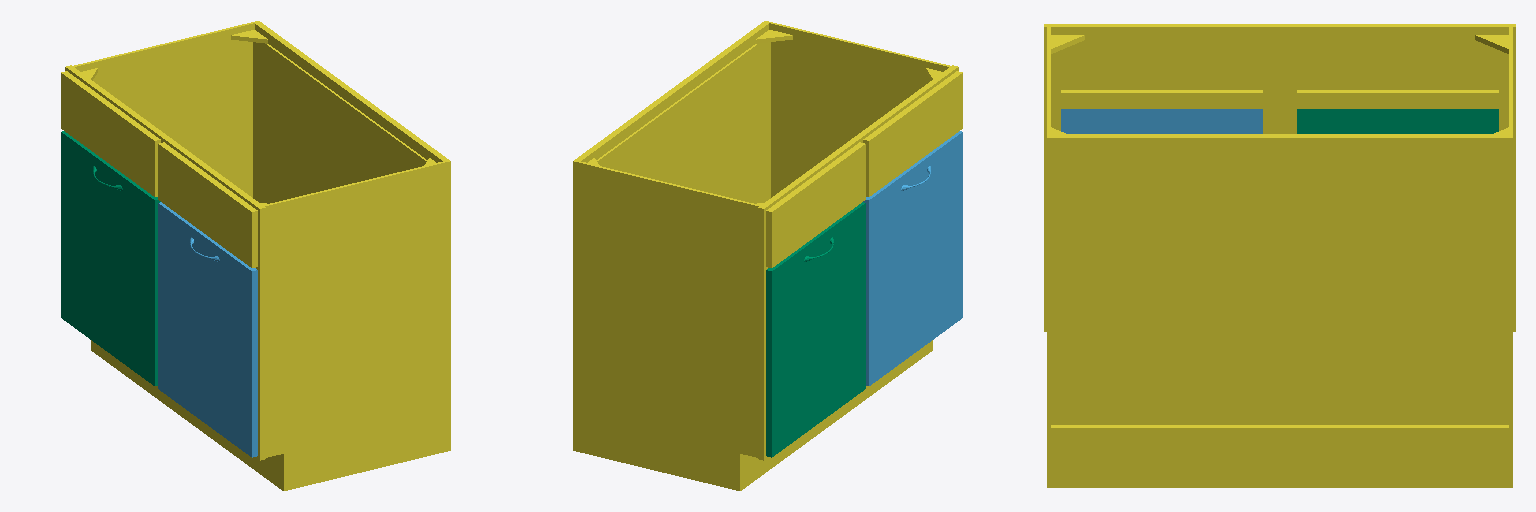
The robot description file, URDF, robot "partnet_147e9d3591cb190829a50a2b3c5e5b6":
<?xml version="1.0" ?>
<robot name="partnet_147e9d3591cb190829a50a2b3c5e5b6">
	<link name="base"/>
	<link name="link_0">
		<visual name="cabinet_door_surface-14">
			<origin xyz="-0.6890134775672921 0.35905998945236206 -0.39410391321777877"/>
			<geometry>
				<mesh filename="textured_objs/original-35.obj"/>
			</geometry>
		</visual>
		<visual name="handle-15">
			<origin xyz="-0.6890134775672921 0.35905998945236206 -0.39410391321777877"/>
			<geometry>
				<mesh filename="textured_objs/original-39.obj"/>
			</geometry>
		</visual>
		<visual name="handle-15">
			<origin xyz="-0.6890134775672921 0.35905998945236206 -0.39410391321777877"/>
			<geometry>
				<mesh filename="textured_objs/original-38.obj"/>
			</geometry>
		</visual>
		<visual name="handle-15">
			<origin xyz="-0.6890134775672921 0.35905998945236206 -0.39410391321777877"/>
			<geometry>
				<mesh filename="textured_objs/original-37.obj"/>
			</geometry>
		</visual>
		<collision>
			<origin xyz="-0.6890134775672921 0.35905998945236206 -0.39410391321777877"/>
			<geometry>
				<mesh filename="textured_objs/original-35.obj"/>
			</geometry>
		</collision>
		<collision>
			<origin xyz="-0.6890134775672921 0.35905998945236206 -0.39410391321777877"/>
			<geometry>
				<mesh filename="textured_objs/original-39.obj"/>
			</geometry>
		</collision>
		<collision>
			<origin xyz="-0.6890134775672921 0.35905998945236206 -0.39410391321777877"/>
			<geometry>
				<mesh filename="textured_objs/original-38.obj"/>
			</geometry>
		</collision>
		<collision>
			<origin xyz="-0.6890134775672921 0.35905998945236206 -0.39410391321777877"/>
			<geometry>
				<mesh filename="textured_objs/original-37.obj"/>
			</geometry>
		</collision>
	</link>
	<joint name="joint_0" type="revolute">
		<origin xyz="0.6890134775672921 -0.35905998945236206 0.39410391321777877"/>
		<axis xyz="0 1 0"/>
		<child link="link_0"/>
		<parent link="link_2"/>
		<limit lower="-0.0" upper="1.5707963267948966"/>
	</joint>
	<link name="link_1">
		<visual name="cabinet_door_surface-12">
			<origin xyz="0.6610118531060256 0.35905998945236206 -0.3949500614873043"/>
			<geometry>
				<mesh filename="textured_objs/original-29.obj"/>
			</geometry>
		</visual>
		<visual name="handle-13">
			<origin xyz="0.6610118531060256 0.35905998945236206 -0.3949500614873043"/>
			<geometry>
				<mesh filename="textured_objs/original-33.obj"/>
			</geometry>
		</visual>
		<visual name="handle-13">
			<origin xyz="0.6610118531060256 0.35905998945236206 -0.3949500614873043"/>
			<geometry>
				<mesh filename="textured_objs/original-31.obj"/>
			</geometry>
		</visual>
		<visual name="handle-13">
			<origin xyz="0.6610118531060256 0.35905998945236206 -0.3949500614873043"/>
			<geometry>
				<mesh filename="textured_objs/original-32.obj"/>
			</geometry>
		</visual>
		<collision>
			<origin xyz="0.6610118531060256 0.35905998945236206 -0.3949500614873043"/>
			<geometry>
				<mesh filename="textured_objs/original-29.obj"/>
			</geometry>
		</collision>
		<collision>
			<origin xyz="0.6610118531060256 0.35905998945236206 -0.3949500614873043"/>
			<geometry>
				<mesh filename="textured_objs/original-33.obj"/>
			</geometry>
		</collision>
		<collision>
			<origin xyz="0.6610118531060256 0.35905998945236206 -0.3949500614873043"/>
			<geometry>
				<mesh filename="textured_objs/original-31.obj"/>
			</geometry>
		</collision>
		<collision>
			<origin xyz="0.6610118531060256 0.35905998945236206 -0.3949500614873043"/>
			<geometry>
				<mesh filename="textured_objs/original-32.obj"/>
			</geometry>
		</collision>
	</link>
	<joint name="joint_1" type="fixed">
		<origin xyz="-0.6610118531060256 -0.35905998945236206 0.3949500614873043"/>
		<axis xyz="0 -1 0"/>
		<child link="link_1"/>
		<parent link="link_2"/>
		<limit lower="0.0" upper="1.5707963267948966"/>
	</joint>
	<link name="link_2">
		<visual name="drawer_front-11">
			<origin xyz="0 0 0"/>
			<geometry>
				<mesh filename="textured_objs/original-27.obj"/>
			</geometry>
		</visual>
		<visual name="drawer_front-9">
			<origin xyz="0 0 0"/>
			<geometry>
				<mesh filename="textured_objs/original-26.obj"/>
			</geometry>
		</visual>
		<visual name="other_leaf-38">
			<origin xyz="0 0 0"/>
			<geometry>
				<mesh filename="textured_objs/original-11.obj"/>
			</geometry>
		</visual>
		<visual name="other_leaf-37">
			<origin xyz="0 0 0"/>
			<geometry>
				<mesh filename="textured_objs/original-10.obj"/>
			</geometry>
		</visual>
		<visual name="other_leaf-36">
			<origin xyz="0 0 0"/>
			<geometry>
				<mesh filename="textured_objs/original-8.obj"/>
			</geometry>
		</visual>
		<visual name="other_leaf-35">
			<origin xyz="0 0 0"/>
			<geometry>
				<mesh filename="textured_objs/original-9.obj"/>
			</geometry>
		</visual>
		<visual name="back_panel-41">
			<origin xyz="0 0 0"/>
			<geometry>
				<mesh filename="textured_objs/original-23.obj"/>
			</geometry>
		</visual>
		<visual name="bottom_panel-42">
			<origin xyz="0 0 0"/>
			<geometry>
				<mesh filename="textured_objs/original-16.obj"/>
			</geometry>
		</visual>
		<visual name="frame_vertical_bar-43">
			<origin xyz="0 0 0"/>
			<geometry>
				<mesh filename="textured_objs/original-25.obj"/>
			</geometry>
		</visual>
		<visual name="frame_vertical_bar-43">
			<origin xyz="0 0 0"/>
			<geometry>
				<mesh filename="textured_objs/original-6.obj"/>
			</geometry>
		</visual>
		<visual name="frame_horizontal_bar-44">
			<origin xyz="0 0 0"/>
			<geometry>
				<mesh filename="textured_objs/original-7.obj"/>
			</geometry>
		</visual>
		<visual name="frame_horizontal_bar-45">
			<origin xyz="0 0 0"/>
			<geometry>
				<mesh filename="textured_objs/original-3.obj"/>
			</geometry>
		</visual>
		<visual name="frame_horizontal_bar-46">
			<origin xyz="0 0 0"/>
			<geometry>
				<mesh filename="textured_objs/original-22.obj"/>
			</geometry>
		</visual>
		<visual name="frame_horizontal_bar-48">
			<origin xyz="0 0 0"/>
			<geometry>
				<mesh filename="textured_objs/original-5.obj"/>
			</geometry>
		</visual>
		<visual name="frame_vertical_bar-49">
			<origin xyz="0 0 0"/>
			<geometry>
				<mesh filename="textured_objs/original-2.obj"/>
			</geometry>
		</visual>
		<visual name="frame_vertical_bar-50">
			<origin xyz="0 0 0"/>
			<geometry>
				<mesh filename="textured_objs/original-4.obj"/>
			</geometry>
		</visual>
		<visual name="vertical_side_panel-51">
			<origin xyz="0 0 0"/>
			<geometry>
				<mesh filename="textured_objs/original-14.obj"/>
			</geometry>
		</visual>
		<visual name="vertical_side_panel-51">
			<origin xyz="0 0 0"/>
			<geometry>
				<mesh filename="textured_objs/original-13.obj"/>
			</geometry>
		</visual>
		<visual name="vertical_side_panel-52">
			<origin xyz="0 0 0"/>
			<geometry>
				<mesh filename="textured_objs/original-19.obj"/>
			</geometry>
		</visual>
		<visual name="vertical_side_panel-52">
			<origin xyz="0 0 0"/>
			<geometry>
				<mesh filename="textured_objs/original-18.obj"/>
			</geometry>
		</visual>
		<visual name="other_leaf-55">
			<origin xyz="0 0 0"/>
			<geometry>
				<mesh filename="textured_objs/original-40.obj"/>
			</geometry>
		</visual>
		<visual name="base_side_panel-17">
			<origin xyz="0 0 0"/>
			<geometry>
				<mesh filename="textured_objs/original-20.obj"/>
			</geometry>
		</visual>
		<visual name="base_side_panel-18">
			<origin xyz="0 0 0"/>
			<geometry>
				<mesh filename="textured_objs/original-21.obj"/>
			</geometry>
		</visual>
		<visual name="base_side_panel-19">
			<origin xyz="0 0 0"/>
			<geometry>
				<mesh filename="textured_objs/original-15.obj"/>
			</geometry>
		</visual>
		<visual name="base_side_panel-20">
			<origin xyz="0 0 0"/>
			<geometry>
				<mesh filename="textured_objs/original-24.obj"/>
			</geometry>
		</visual>
		<collision>
			<origin xyz="0 0 0"/>
			<geometry>
				<mesh filename="textured_objs/original-27.obj"/>
			</geometry>
		</collision>
		<collision>
			<origin xyz="0 0 0"/>
			<geometry>
				<mesh filename="textured_objs/original-26.obj"/>
			</geometry>
		</collision>
		<collision>
			<origin xyz="0 0 0"/>
			<geometry>
				<mesh filename="textured_objs/original-11.obj"/>
			</geometry>
		</collision>
		<collision>
			<origin xyz="0 0 0"/>
			<geometry>
				<mesh filename="textured_objs/original-10.obj"/>
			</geometry>
		</collision>
		<collision>
			<origin xyz="0 0 0"/>
			<geometry>
				<mesh filename="textured_objs/original-8.obj"/>
			</geometry>
		</collision>
		<collision>
			<origin xyz="0 0 0"/>
			<geometry>
				<mesh filename="textured_objs/original-9.obj"/>
			</geometry>
		</collision>
		<collision>
			<origin xyz="0 0 0"/>
			<geometry>
				<mesh filename="textured_objs/original-23.obj"/>
			</geometry>
		</collision>
		<collision>
			<origin xyz="0 0 0"/>
			<geometry>
				<mesh filename="textured_objs/original-16.obj"/>
			</geometry>
		</collision>
		<collision>
			<origin xyz="0 0 0"/>
			<geometry>
				<mesh filename="textured_objs/original-25.obj"/>
			</geometry>
		</collision>
		<collision>
			<origin xyz="0 0 0"/>
			<geometry>
				<mesh filename="textured_objs/original-6.obj"/>
			</geometry>
		</collision>
		<collision>
			<origin xyz="0 0 0"/>
			<geometry>
				<mesh filename="textured_objs/original-7.obj"/>
			</geometry>
		</collision>
		<collision>
			<origin xyz="0 0 0"/>
			<geometry>
				<mesh filename="textured_objs/original-3.obj"/>
			</geometry>
		</collision>
		<collision>
			<origin xyz="0 0 0"/>
			<geometry>
				<mesh filename="textured_objs/original-22.obj"/>
			</geometry>
		</collision>
		<collision>
			<origin xyz="0 0 0"/>
			<geometry>
				<mesh filename="textured_objs/original-5.obj"/>
			</geometry>
		</collision>
		<collision>
			<origin xyz="0 0 0"/>
			<geometry>
				<mesh filename="textured_objs/original-2.obj"/>
			</geometry>
		</collision>
		<collision>
			<origin xyz="0 0 0"/>
			<geometry>
				<mesh filename="textured_objs/original-4.obj"/>
			</geometry>
		</collision>
		<collision>
			<origin xyz="0 0 0"/>
			<geometry>
				<mesh filename="textured_objs/original-14.obj"/>
			</geometry>
		</collision>
		<collision>
			<origin xyz="0 0 0"/>
			<geometry>
				<mesh filename="textured_objs/original-13.obj"/>
			</geometry>
		</collision>
		<collision>
			<origin xyz="0 0 0"/>
			<geometry>
				<mesh filename="textured_objs/original-19.obj"/>
			</geometry>
		</collision>
		<collision>
			<origin xyz="0 0 0"/>
			<geometry>
				<mesh filename="textured_objs/original-18.obj"/>
			</geometry>
		</collision>
		<collision>
			<origin xyz="0 0 0"/>
			<geometry>
				<mesh filename="textured_objs/original-40.obj"/>
			</geometry>
		</collision>
		<collision>
			<origin xyz="0 0 0"/>
			<geometry>
				<mesh filename="textured_objs/original-20.obj"/>
			</geometry>
		</collision>
		<collision>
			<origin xyz="0 0 0"/>
			<geometry>
				<mesh filename="textured_objs/original-21.obj"/>
			</geometry>
		</collision>
		<collision>
			<origin xyz="0 0 0"/>
			<geometry>
				<mesh filename="textured_objs/original-15.obj"/>
			</geometry>
		</collision>
		<collision>
			<origin xyz="0 0 0"/>
			<geometry>
				<mesh filename="textured_objs/original-24.obj"/>
			</geometry>
		</collision>
	</link>
	<joint name="joint_2" type="fixed">
		<origin rpy="1.570796326794897 0 -1.570796326794897" xyz="0 0 0"/>
		<child link="link_2"/>
		<parent link="base"/>
	</joint>
</robot>

--- What the picture shows (computed from the rendered views, not written in the file) ---
The picture shows the robot from 3 angles, left to right: view 1: azimuth 30°, elevation 25°; view 2: azimuth 150°, elevation 25°; view 3: azimuth 270°, elevation 25°; orthographic projection.
Robot: partnet_147e9d3591cb190829a50a2b3c5e5b6 — 4 links, 3 joints (1 revolute, 2 fixed); root link base; default pose: every joint at zero.
Links seen in each view (by area): view 1: link_2, link_0, link_1; view 2: link_2, link_1, link_0; view 3: link_2, link_0, link_1.
Link boxes in pixels (box(x1,y1,x2,y2)): link_2: box(61, 21, 450, 490); link_0: box(158, 202, 257, 457); link_1: box(61, 131, 160, 385); link_2: box(573, 21, 962, 490); link_1: box(766, 202, 865, 457); link_0: box(863, 131, 962, 385); link_2: box(1044, 24, 1515, 487); link_0: box(1061, 109, 1262, 133); link_1: box(1297, 109, 1498, 133).
Size in the robot's own frame: 0.8631 by 1.4 by 1.15 metres.
Meshes: 33 distinct files referenced, 33 mesh visuals loaded (33 OBJ).